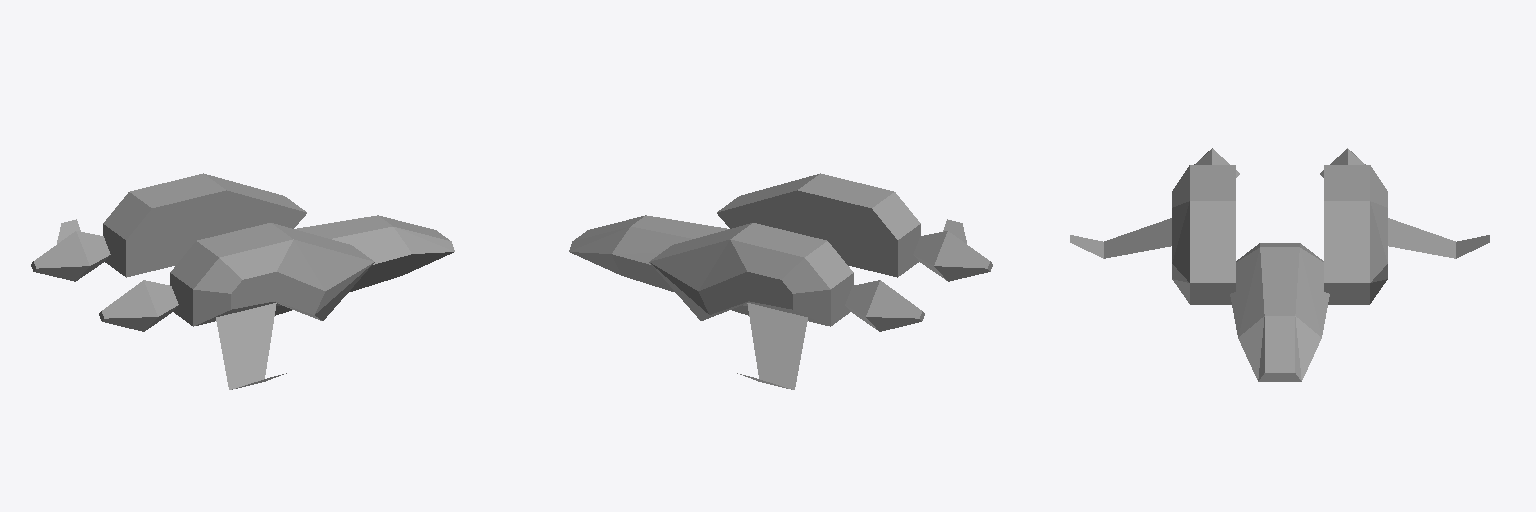
The model's file is player2.obj.
3 views of the same model, side by side, from view 1: azimuth 30°, elevation 25°; view 2: azimuth 150°, elevation 25°; view 3: azimuth 270°, elevation 25° (orthographic).
Visible parts, largest first — view 1: Engines_Engines+Flame, Cockpit; view 2: Engines_Engines+Flame, Cockpit; view 3: Engines_Engines+Flame, Cockpit.
Part boxes in pixels (x1,y1,x2,y2): Engines_Engines+Flame: (31,173,374,389); Cockpit: (275,215,454,315); Engines_Engines+Flame: (649,173,992,389); Cockpit: (569,215,748,315); Engines_Engines+Flame: (1070,148,1489,304); Cockpit: (1230,243,1329,381).
Size of the model in its own units: 4.25 by 1.11 by 4.11.